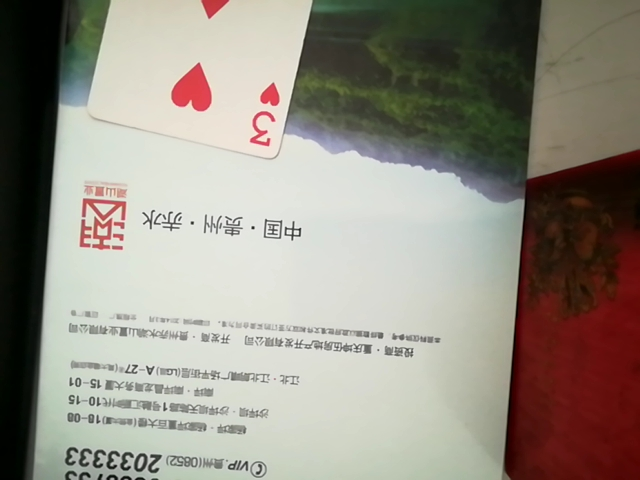hx 3: (73, 0, 338, 159)
